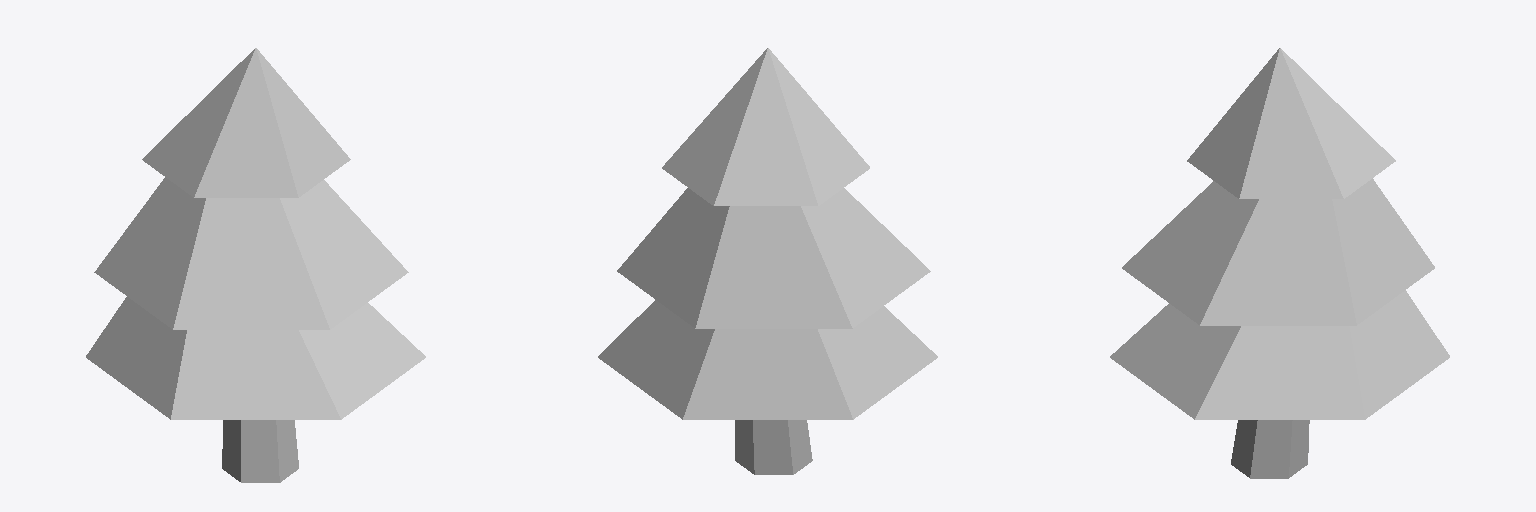
Rendered from tree_1_winter.obj.
3 views of the same model, side by side, from view 1: azimuth 30°, elevation 25°; view 2: azimuth 150°, elevation 25°; view 3: azimuth 270°, elevation 25° (orthographic).
Parts seen in each view (by area): view 1: Cylinder; view 2: Cylinder; view 3: Cylinder.
Part boxes in pixels (left/top/right/bottom): Cylinder: left=86, top=48, right=425, bottom=482; Cylinder: left=598, top=48, right=937, bottom=474; Cylinder: left=1110, top=48, right=1449, bottom=478.
Size of the model in its own units: 3.84 by 5.98 by 4.44.